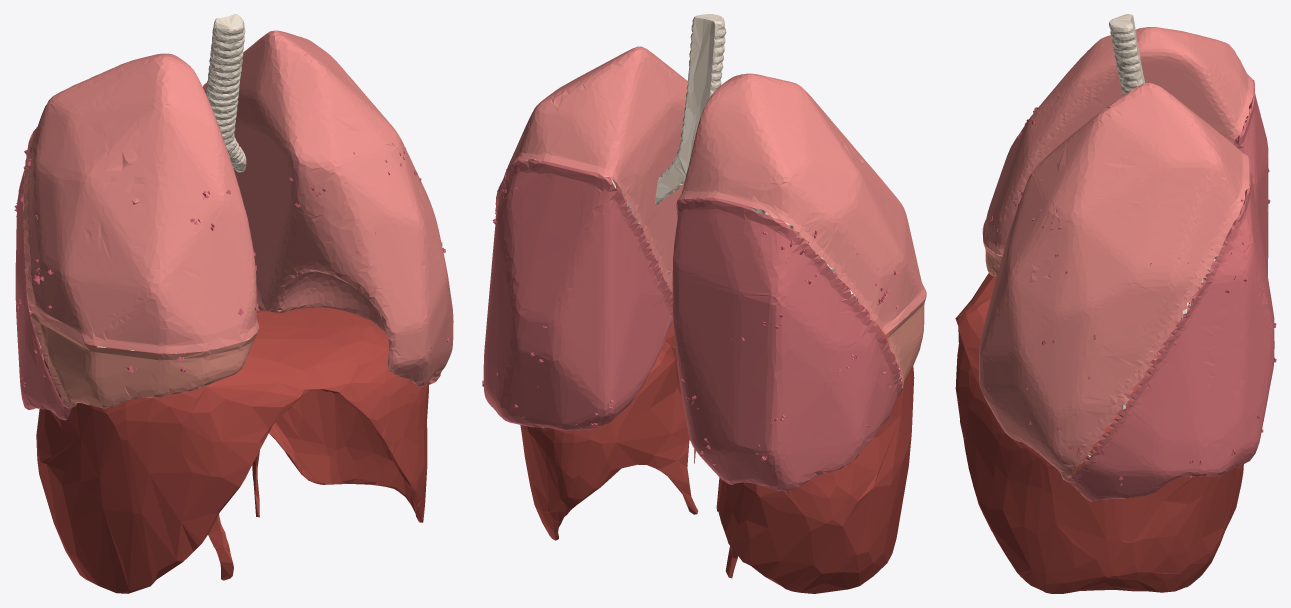
Rendered from bodyparts3d-lungs.glb.
3 renders of one model, left to right at view 1: azimuth 30°, elevation 25°; view 2: azimuth 150°, elevation 25°; view 3: azimuth 270°, elevation 25°, orthographic. The views are drawn at different scales.
Parts seen in each view (by area): view 1: diaphragm, lobe_ru, lobe_lu, lobe_rm, lobe_rl, bronchial_tree, trachea, alveoli; view 2: lobe_rl, lobe_ll, diaphragm, lobe_ru, lobe_lu, bronchial_tree, trachea, lobe_rm, alveoli; view 3: lobe_lu, diaphragm, lobe_ll, lobe_ru, lobe_rl, bronchial_tree, trachea, alveoli.
Boxes of the visible parts, bbox=[...] form: diaphragm: bbox=[36, 307, 429, 593]; lobe_ru: bbox=[23, 53, 259, 353]; lobe_lu: bbox=[203, 30, 453, 386]; lobe_rm: bbox=[30, 313, 258, 408]; lobe_rl: bbox=[15, 130, 75, 420]; bronchial_tree: bbox=[59, 15, 246, 350]; trachea: bbox=[206, 14, 245, 152]; alveoli: bbox=[14, 143, 453, 386]; lobe_rl: bbox=[672, 197, 903, 491]; lobe_ll: bbox=[483, 160, 673, 431]; diaphragm: bbox=[520, 283, 914, 593]; lobe_ru: bbox=[678, 73, 926, 334]; lobe_lu: bbox=[498, 46, 687, 293]; bronchial_tree: bbox=[600, 14, 858, 302]; trachea: bbox=[673, 14, 726, 170]; lobe_rm: bbox=[806, 241, 926, 390]; alveoli: bbox=[482, 156, 899, 472]; lobe_lu: bbox=[979, 83, 1249, 480]; diaphragm: bbox=[955, 273, 1243, 593]; lobe_ll: bbox=[1066, 157, 1274, 502]; lobe_ru: bbox=[983, 27, 1253, 255]; lobe_rl: bbox=[1234, 79, 1268, 276]; bronchial_tree: bbox=[1109, 14, 1219, 409]; trachea: bbox=[1109, 14, 1143, 94]; alveoli: bbox=[988, 107, 1276, 485].
Size of the model in its own units: 0.2973 by 0.4099 by 0.2193.
